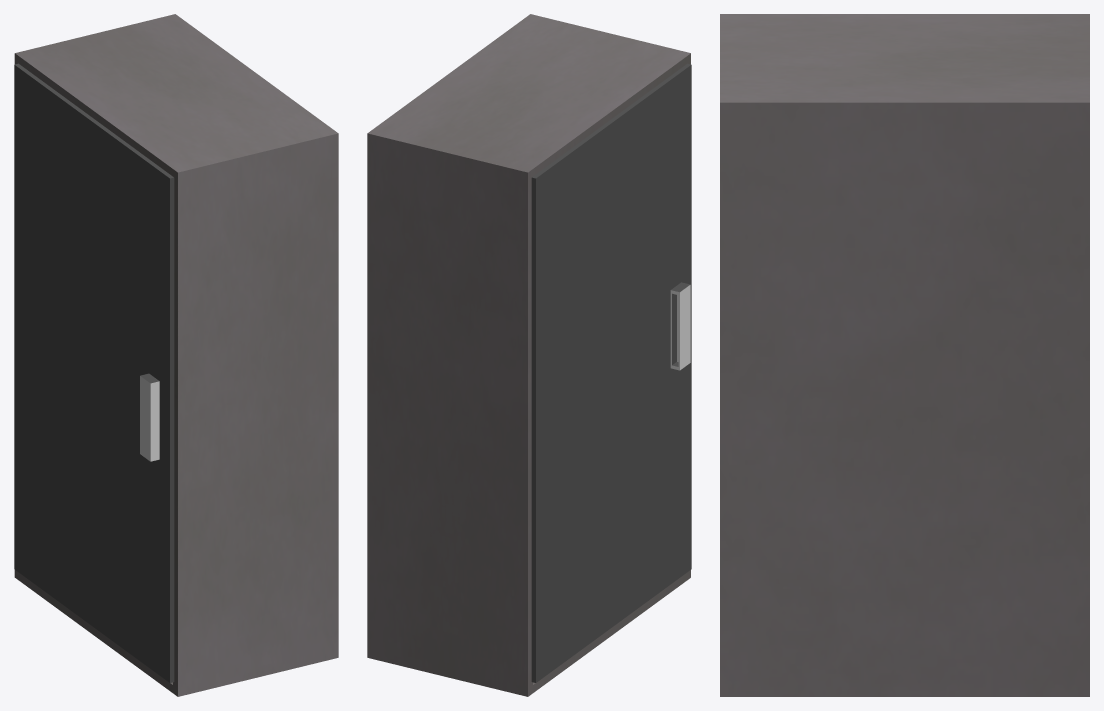
Rendered from kulkas.glb.
The picture shows the model from 3 angles, left to right: view 1: azimuth 30°, elevation 25°; view 2: azimuth 150°, elevation 25°; view 3: azimuth 270°, elevation 25°; orthographic projection. The views are drawn at different scales.
Parts seen in each view (by area): view 1: Base, Door_kulkas; view 2: Base, Door_kulkas; view 3: Base.
Part boxes in pixels (left/top/right/bottom): Base: left=14, top=14, right=338, bottom=696; Door_kulkas: left=14, top=63, right=174, bottom=682; Base: left=367, top=14, right=690, bottom=696; Door_kulkas: left=531, top=63, right=691, bottom=682; Base: left=720, top=14, right=1089, bottom=696.
Bounding box in the file's own units: 0.575 × 1.66 × 0.9335.
Materials: 3 (1 with a texture image).
